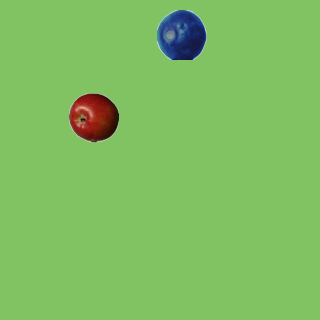Apple Braeburn: (68, 92, 118, 142)
Huckleberry: (156, 9, 206, 59)
